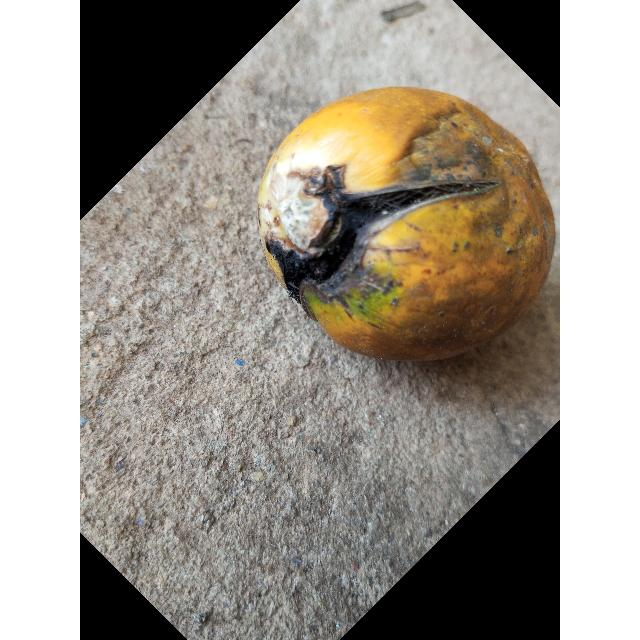damaged: (257, 86, 556, 363)
